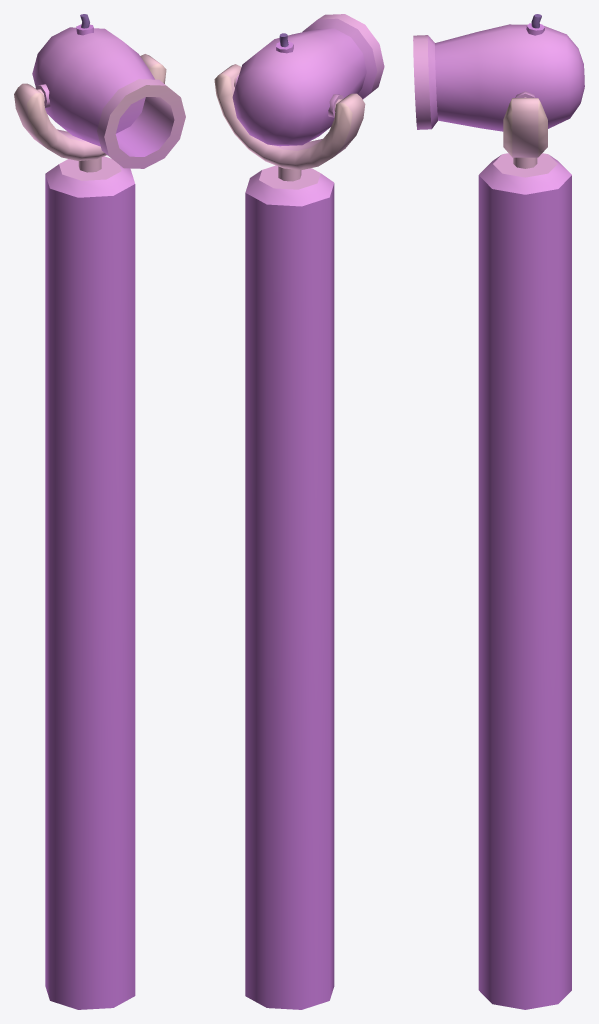
Rendered from cannon.fbx.
3 renders of one model, left to right at view 1: azimuth 30°, elevation 25°; view 2: azimuth 150°, elevation 25°; view 3: azimuth 270°, elevation 25°, orthographic.
Parts seen in each view (by area): view 1: cannon, Circle.002; view 2: cannon, Circle.002; view 3: cannon, Circle.002.
Part boxes in pixels (x1,y1,x2,y2): cannon: [14, 54, 166, 1009]; Circle.002: [32, 14, 185, 168]; cannon: [214, 64, 365, 1009]; Circle.002: [232, 14, 384, 146]; cannon: [478, 91, 571, 1009]; Circle.002: [413, 14, 584, 131].
Size of the model in its own units: 617 by 4097 by 654.
